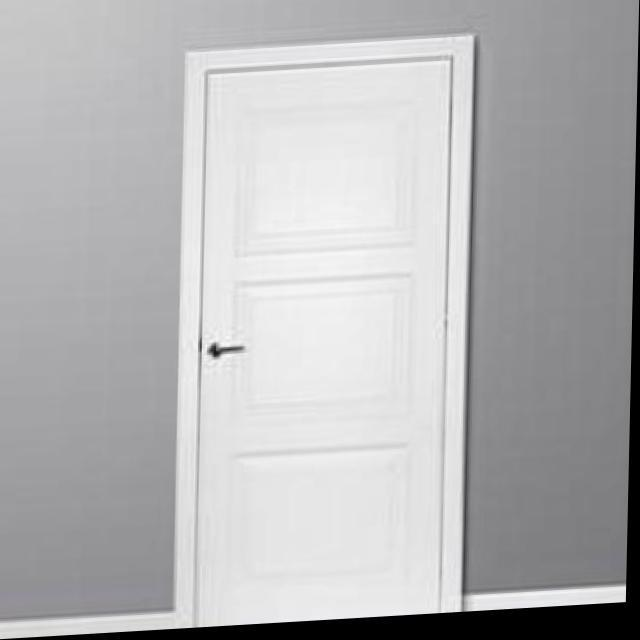door_handle: (200, 340, 252, 370)
